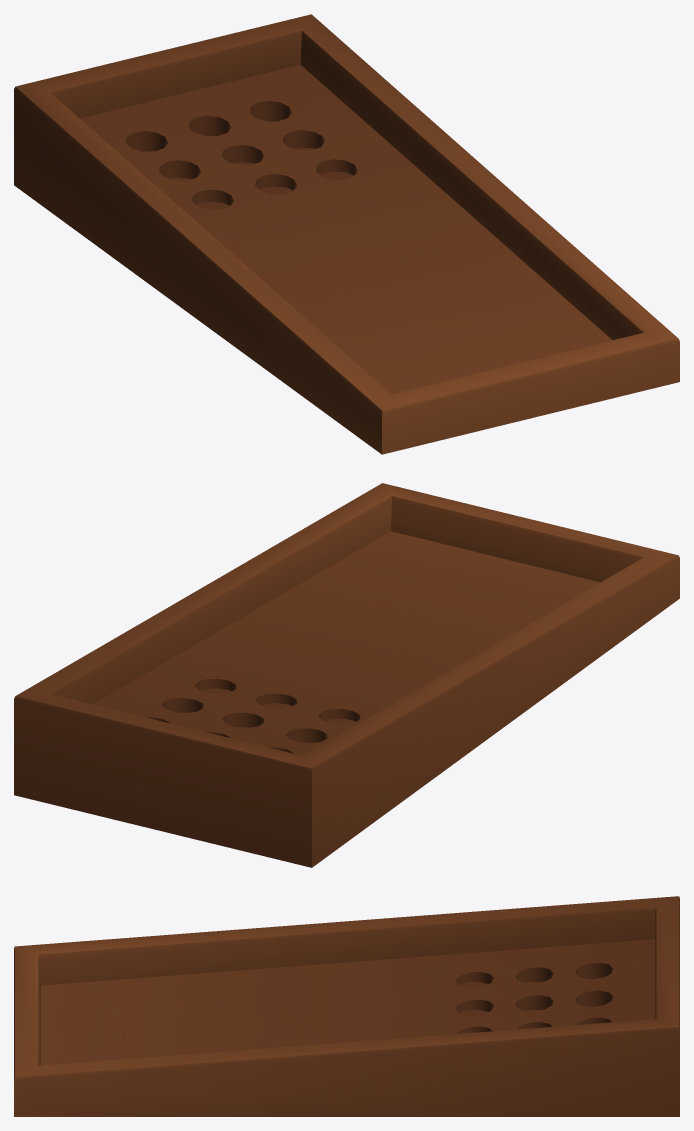
File: MSH_BaseCanicasMiniJuego.fbx
3 views of the same model, one above another, from view 1: azimuth 30°, elevation 25°; view 2: azimuth 150°, elevation 25°; view 3: azimuth 270°, elevation 25° (orthographic). The views are drawn at different scales.
Parts seen in each view (by area): view 1: Msh_Base_MinijuegoCanicas; view 2: Msh_Base_MinijuegoCanicas; view 3: Msh_Base_MinijuegoCanicas.
Part boxes in pixels (left/top/right/bottom): Msh_Base_MinijuegoCanicas: left=14, top=14, right=679, bottom=454; Msh_Base_MinijuegoCanicas: left=14, top=483, right=679, bottom=867; Msh_Base_MinijuegoCanicas: left=14, top=896, right=679, bottom=1116.
Bounding box in the file's own units: 45.91 × 14.67 × 98.24.
